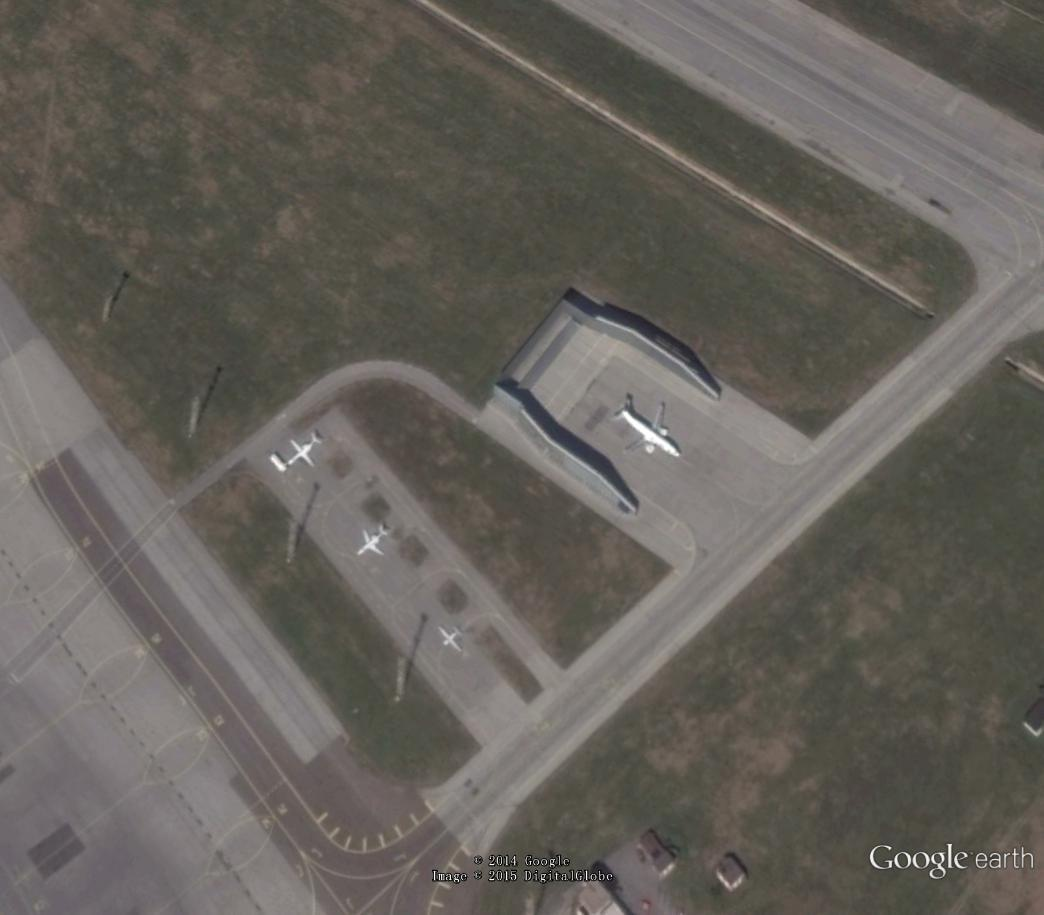aircraft: (609, 396, 687, 465), (282, 429, 327, 472), (352, 520, 394, 561), (436, 622, 468, 657)
